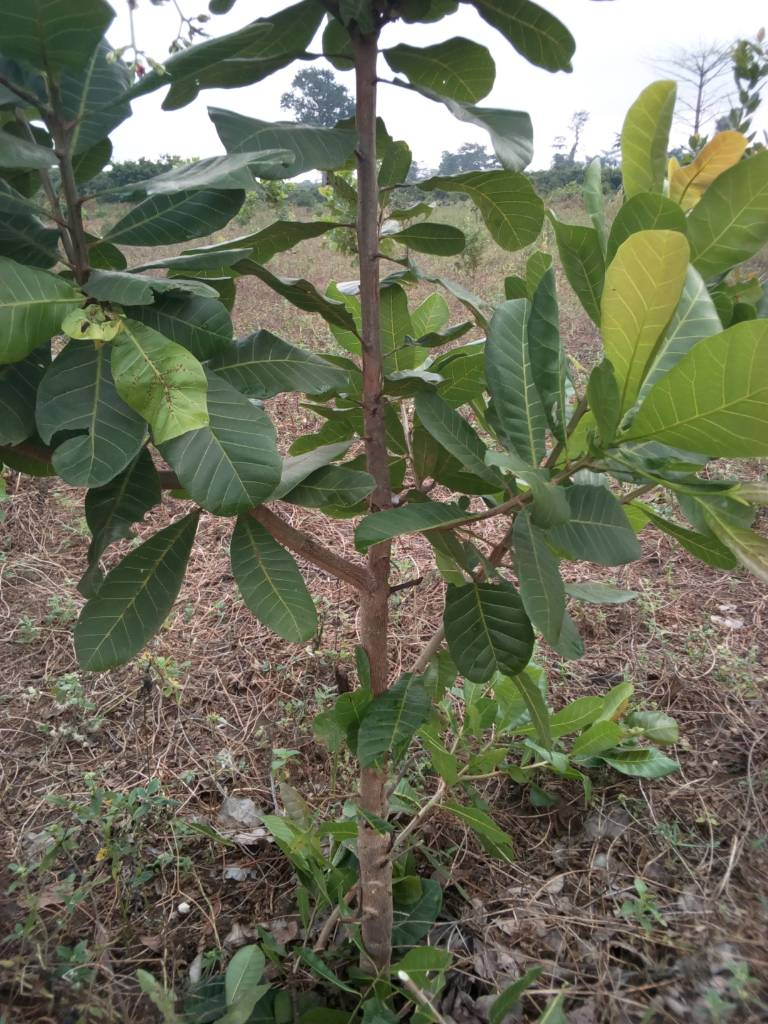Aphis gossypi: (296, 669, 690, 960), (29, 341, 154, 491), (118, 305, 215, 449), (119, 138, 300, 200), (383, 34, 507, 108), (350, 492, 475, 563), (482, 444, 579, 530), (75, 260, 222, 311), (58, 300, 129, 350)
